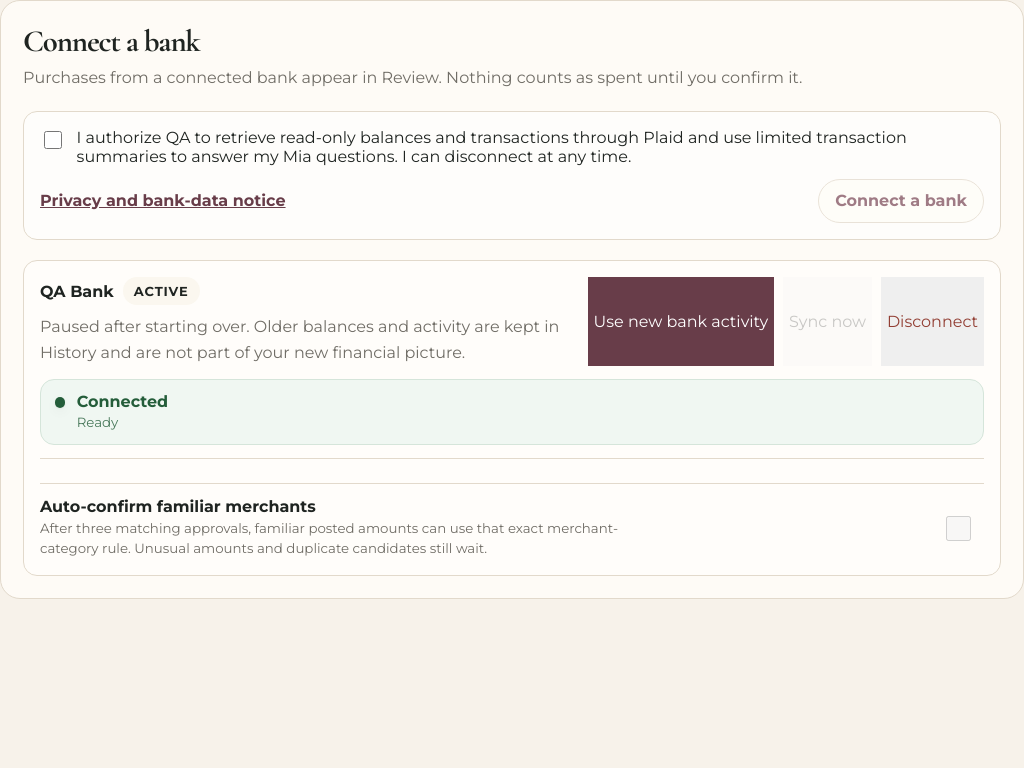
Test: a failed resume displays its retryable error inside the still-open review
The width and height of the screenshot is (1024, 768).
Click the button "Use new bank activity" at (681, 321), box [588,277,774,366]
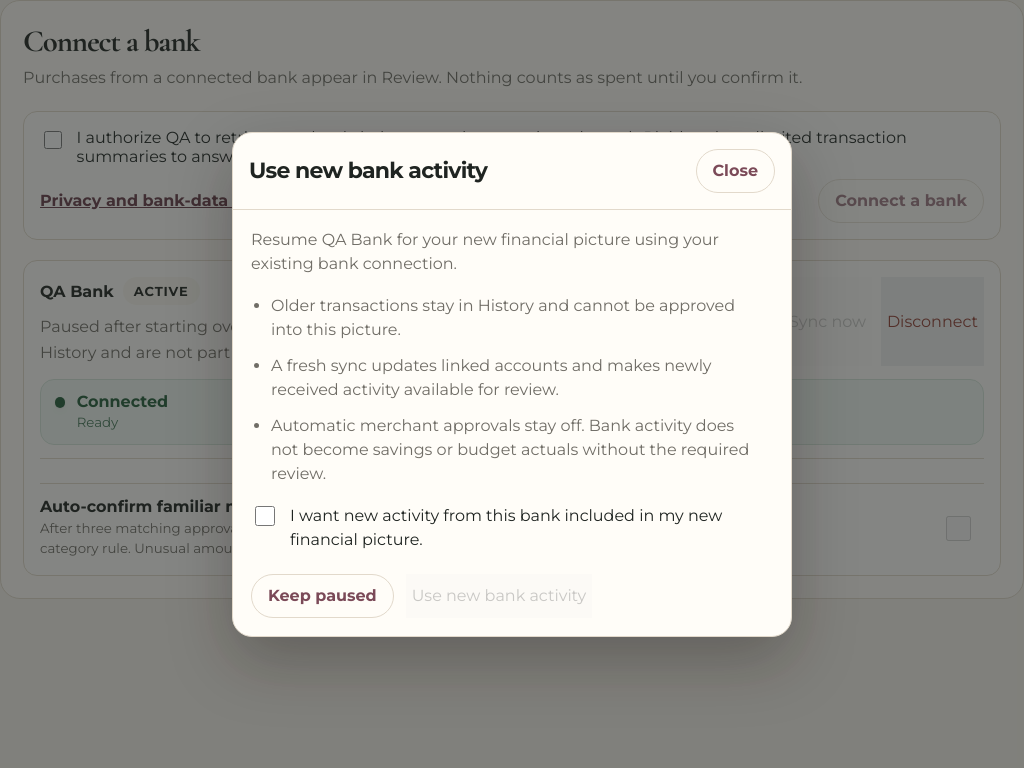
Click the checkbox labelled "I want new activity from this bank included in my new financial picture." at (265, 516), box [255,506,275,526]
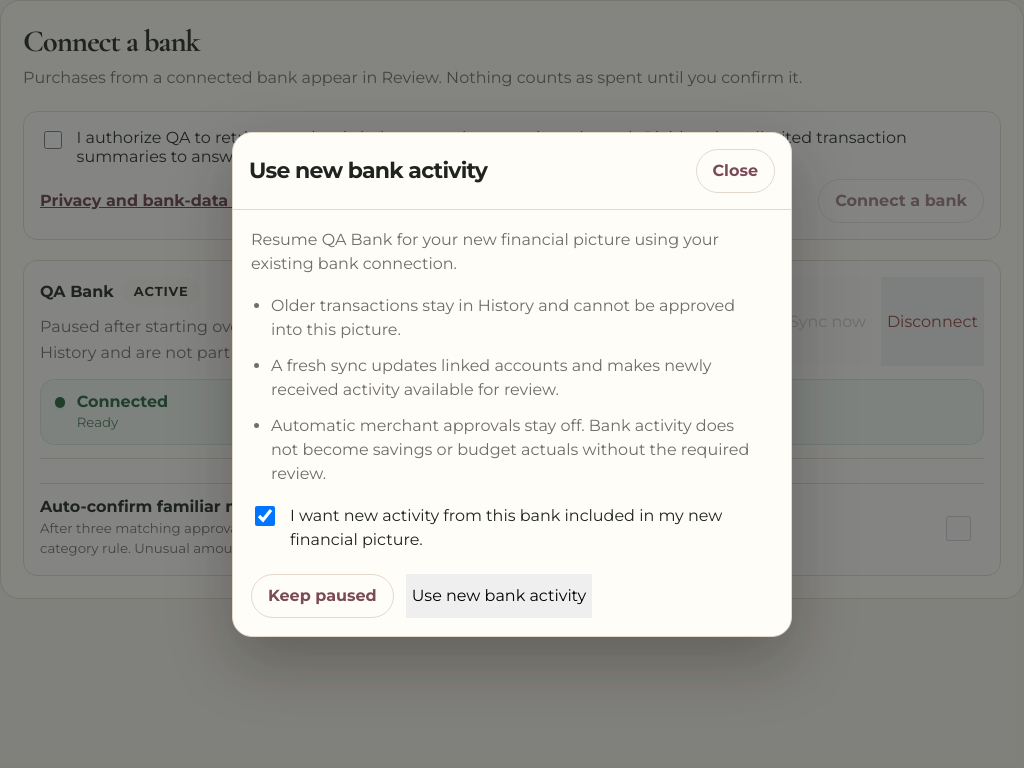
Click the button "Use new bank activity" at (499, 596), box [406,574,592,618]
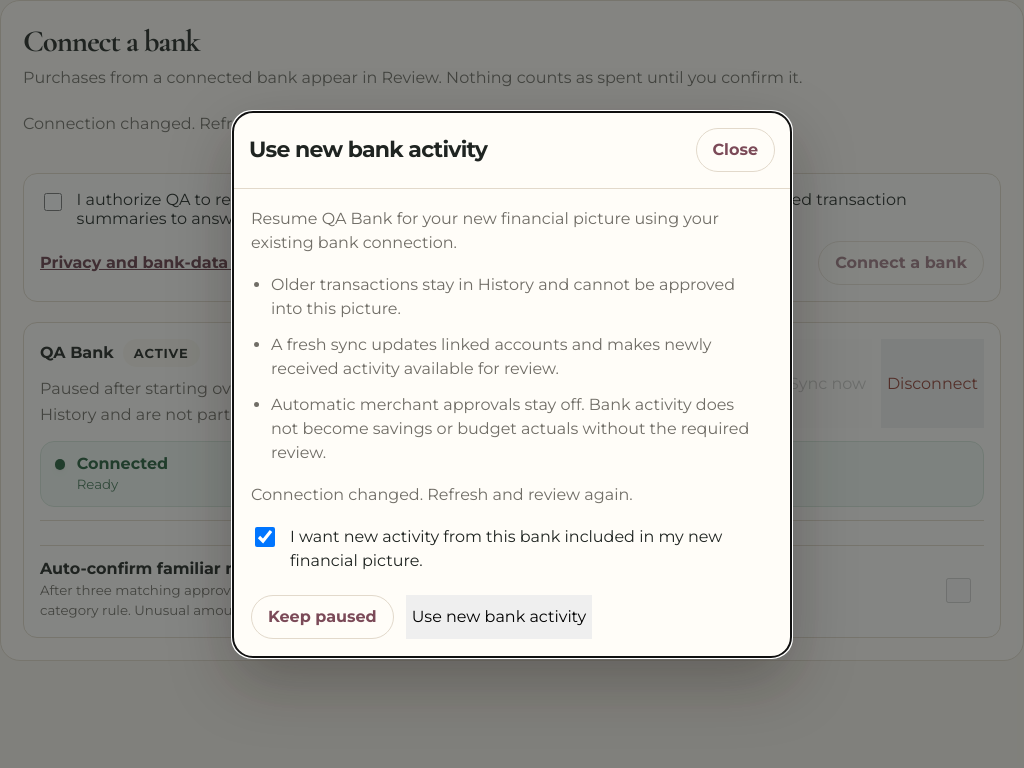
Expected: the button "Use new bank activity" is enabled, [406,594,592,638]
Expected: the message "Connection changed. Refresh and review again." is shown, [251,484,633,504]
